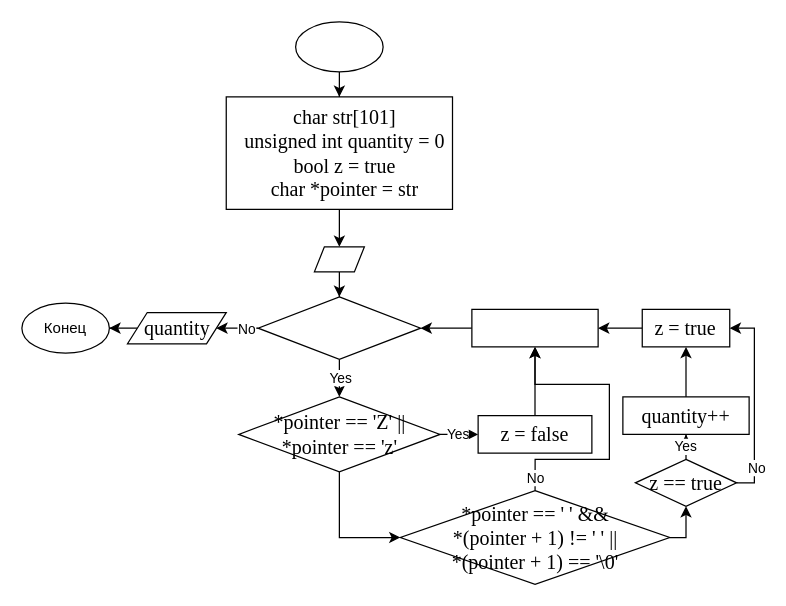
Image size: 786x606. Some labels were removed from this diagram. Each missing label, with the centre of its shape:
*pointer != '\0': the point at 339,327
pointer++;: the point at 534,327
str: the point at 338,259
Начало: the point at 338,46
